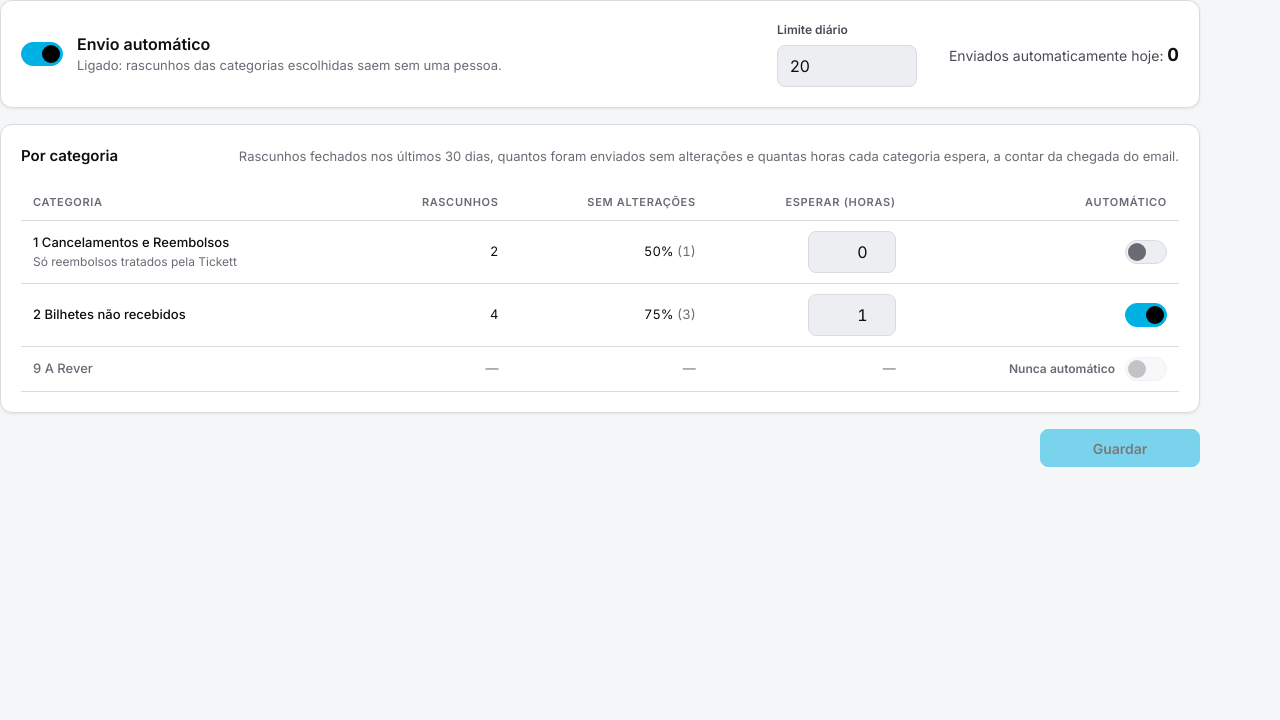
Test case: AutoSend › refuses an empty wait instead of saving it as 0
Clear the number field named "Esperar (horas): 2 Bilhetes não recebidos" at [852, 315], box x1=808 y1=294 x2=896 y2=336
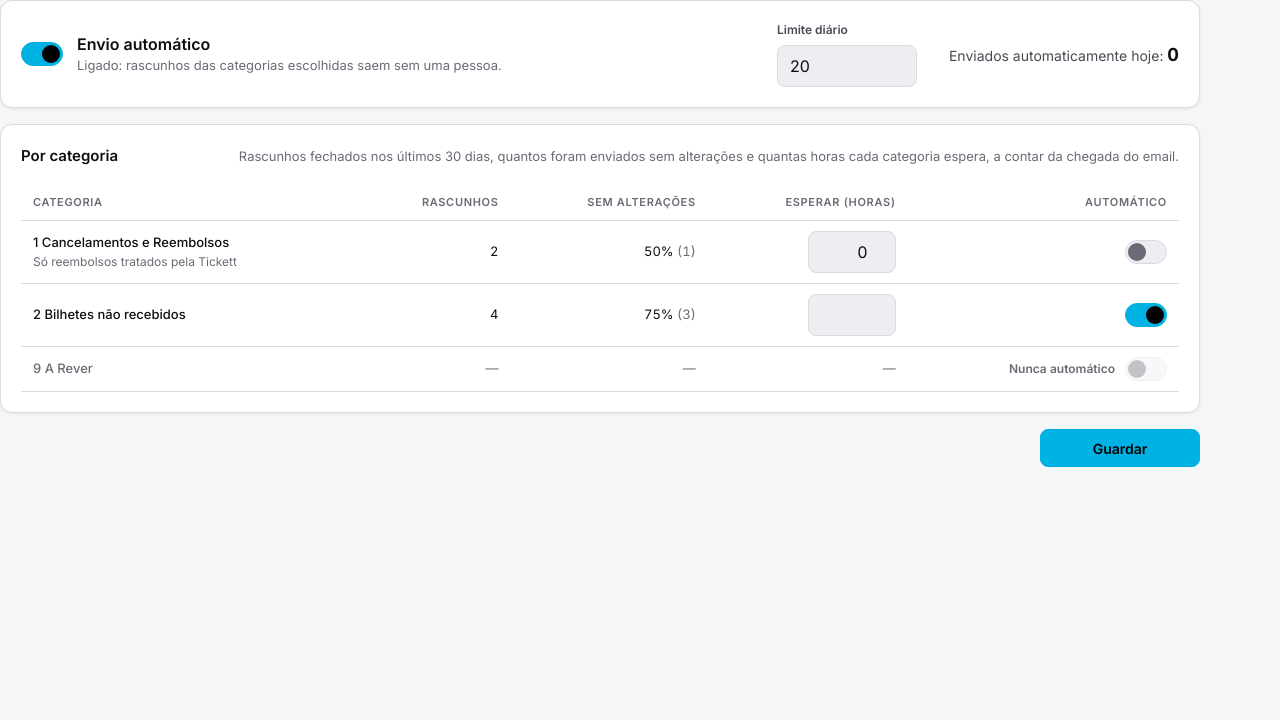
Click the button "Guardar".
click(1120, 448)  # box x1=1040 y1=429 x2=1200 y2=467
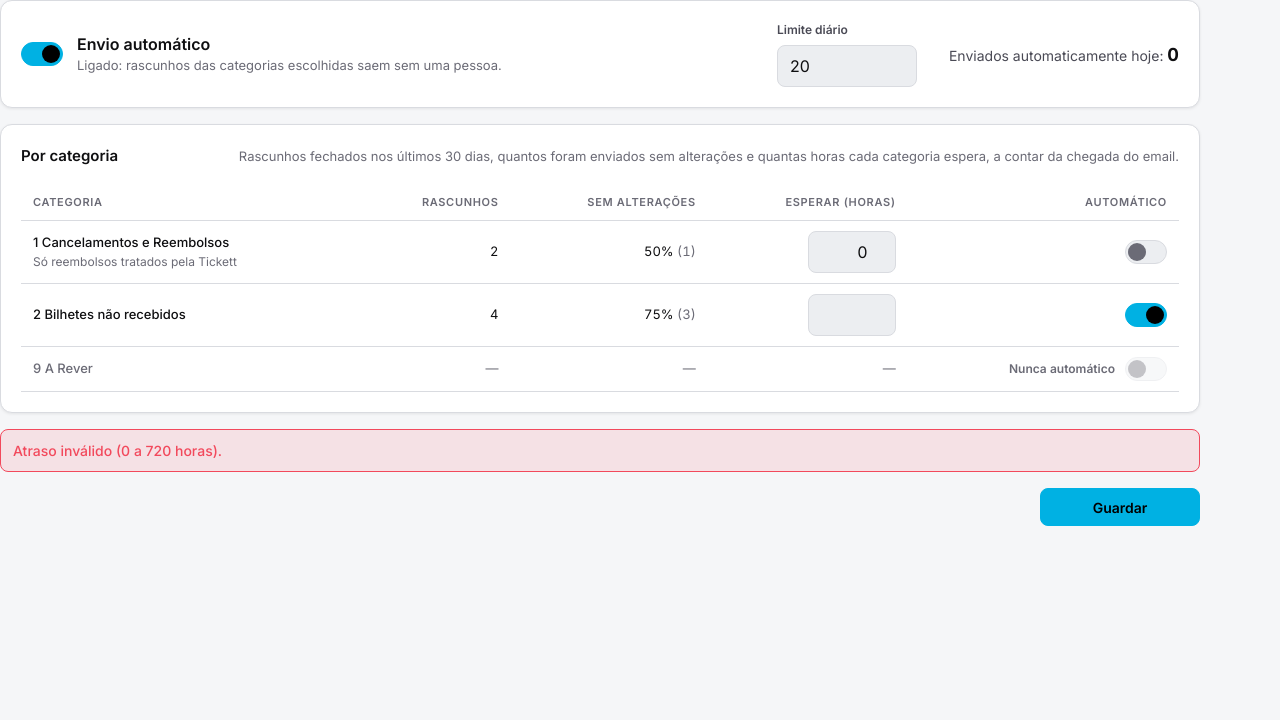
Expected: the text "Atraso inválido (0 a 720 horas)." is shown, x1=0 y1=429 x2=1200 y2=472
